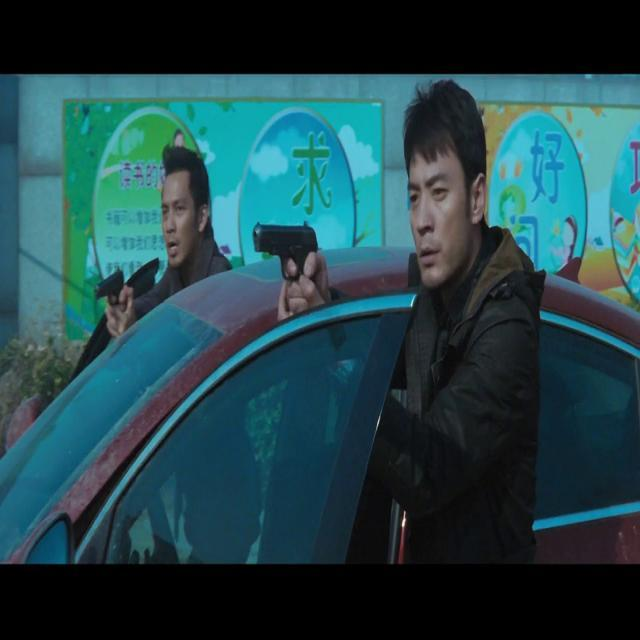gun-knife-thesis - v11 Yolov5 augmented: (251, 214, 332, 326), (92, 264, 134, 335)
